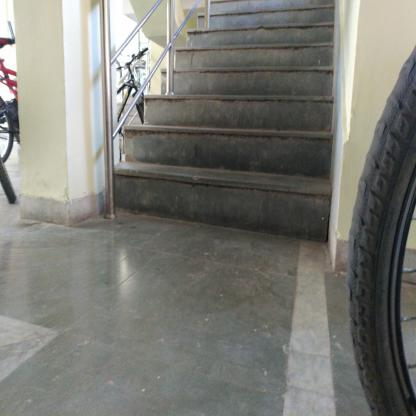stairs: (215, 7, 326, 246)
